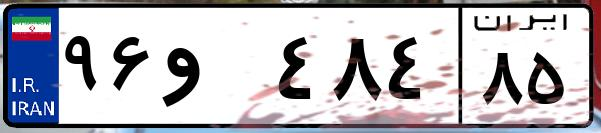4: (270, 28, 330, 110), (385, 28, 445, 110)
5: (525, 38, 570, 115)
6: (110, 28, 158, 98)
8: (330, 28, 385, 110), (475, 38, 525, 113)
9: (57, 26, 110, 100)
و: (158, 20, 270, 120)
